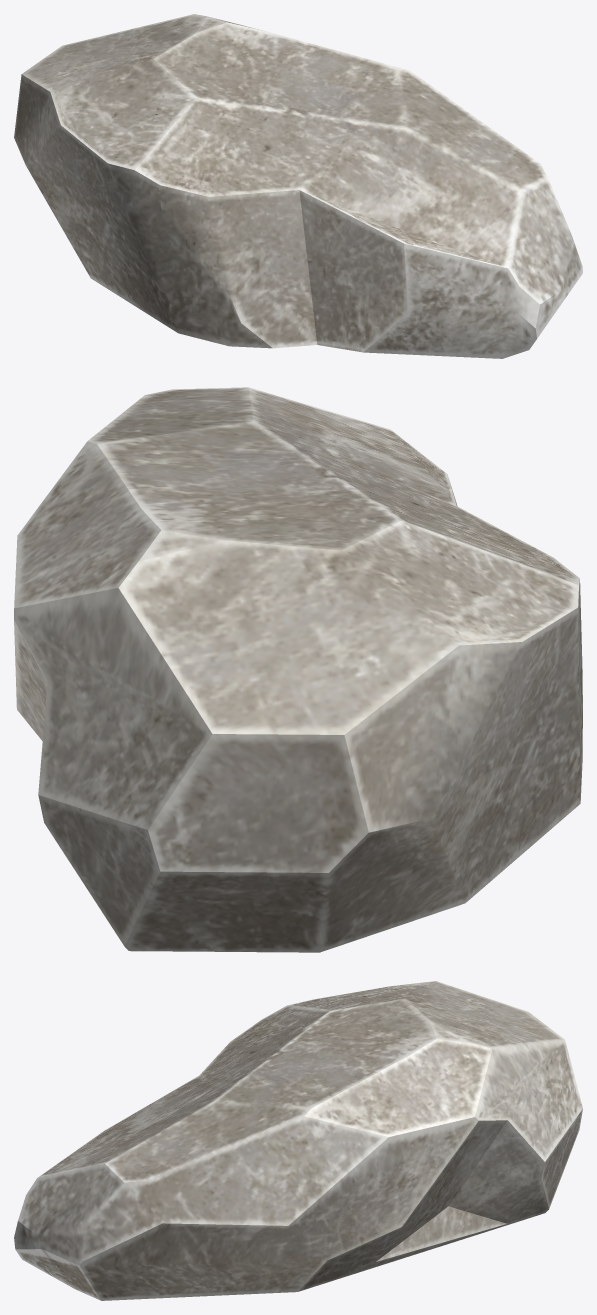
File: pathway_rock_17_dream.glb
The picture shows the model from 3 angles, top to bottom: view 1: azimuth 30°, elevation 25°; view 2: azimuth 150°, elevation 25°; view 3: azimuth 270°, elevation 25°; orthographic projection. The views are drawn at different scales.
Parts seen in each view (by area): view 1: pathway_rock_17; view 2: pathway_rock_17; view 3: pathway_rock_17.
Part boxes in pixels (left/top/right/bottom): pathway_rock_17: left=14, top=14, right=582, bottom=358; pathway_rock_17: left=14, top=387, right=582, bottom=952; pathway_rock_17: left=14, top=981, right=582, bottom=1300.
Bounding box in the file's own units: 1.92 × 1.1 × 2.69.
Materials: 1 (1 with a texture image).
